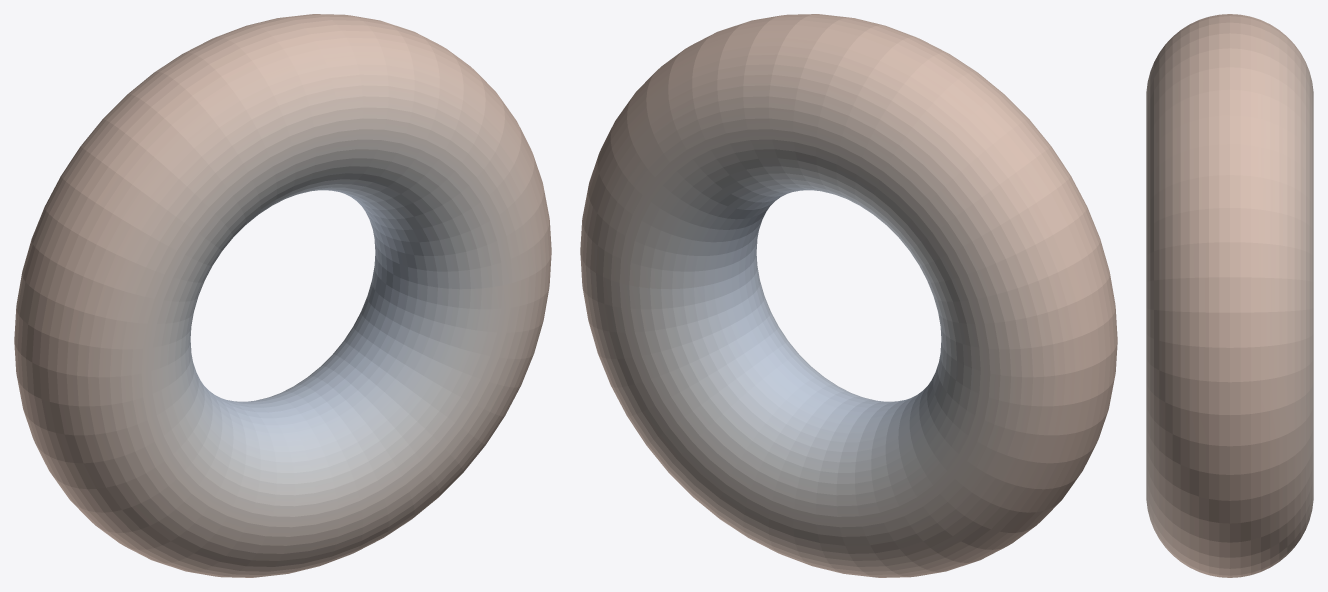
3 renders of one model, left to right at view 1: azimuth 30°, elevation 25°; view 2: azimuth 150°, elevation 25°; view 3: azimuth 270°, elevation 25°, orthographic. The views are drawn at different scales.
Visible parts, largest first — view 1: world; view 2: world; view 3: world.
Boxes of the visible parts, x1=… form: world: x1=14, y1=14, x2=551, y2=577; world: x1=580, y1=14, x2=1117, y2=577; world: x1=1146, y1=14, x2=1313, y2=577.
Size of the model in its own units: 24.67 by 24.62 by 7.32.
